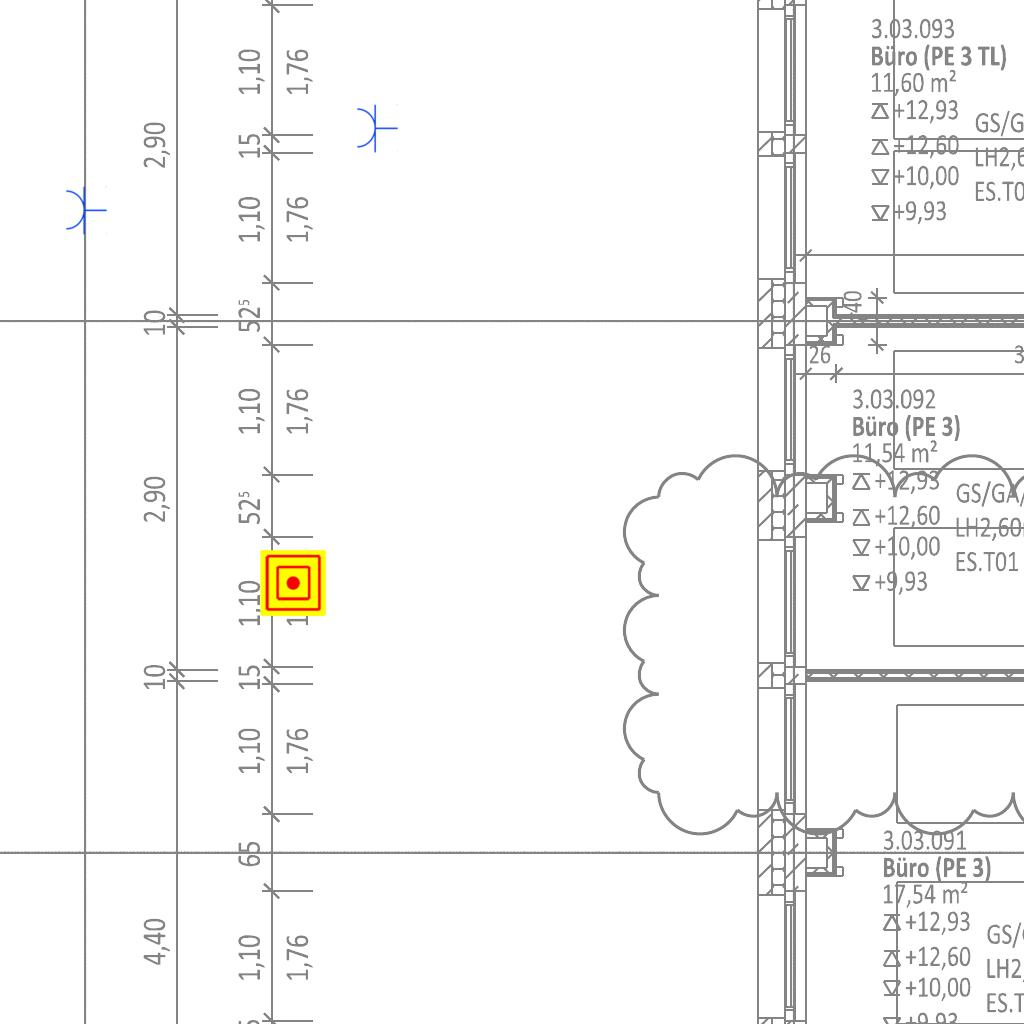NAM-Nichtautomatischer_Melder: (260, 550, 326, 616)
Schukosteckdose_einfach: (64, 185, 107, 235), (355, 103, 398, 153)
